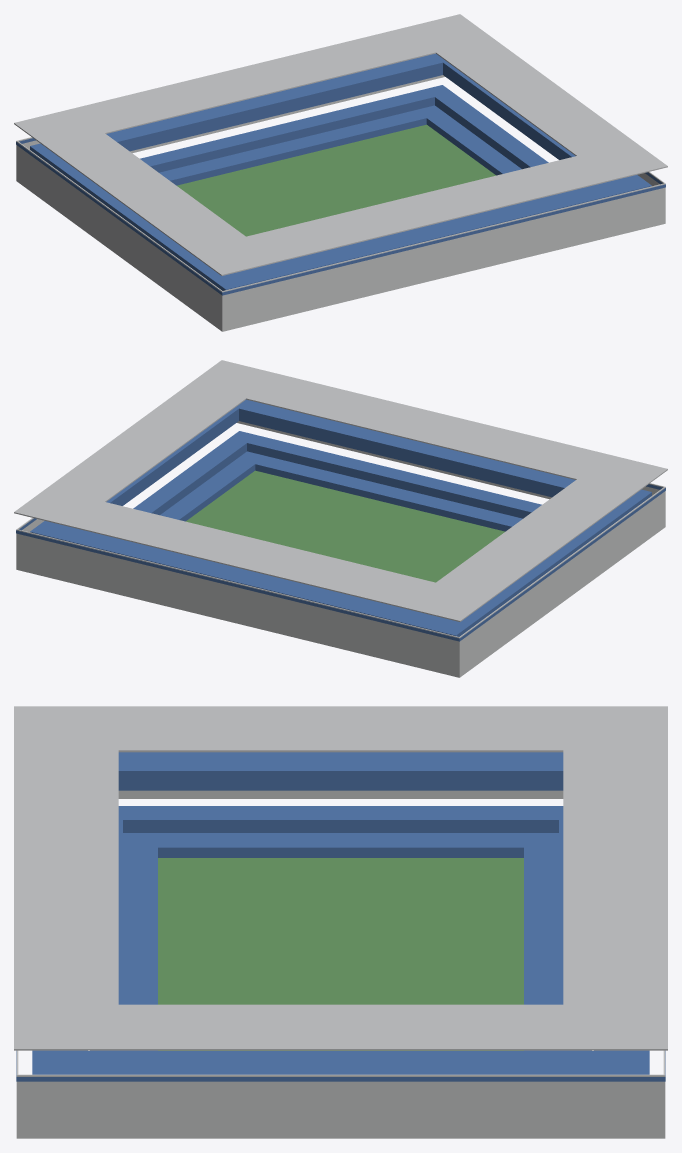
Rendered from arena.zfix-v4.lod2.glb.
3 renders of one model, top to bottom at view 1: azimuth 30°, elevation 25°; view 2: azimuth 150°, elevation 25°; view 3: azimuth 270°, elevation 25°, orthographic. The views are drawn at different scales.
Parts seen in each view (by area): view 1: arena; view 2: arena; view 3: arena.
Part boxes in pixels (x1=…): arena: x1=14, y1=14, x2=667, y2=331; arena: x1=14, y1=360, x2=667, y2=677; arena: x1=14, y1=706, x2=667, y2=1138.
Bounding box in the file's own units: 186 × 23.05 × 150.
